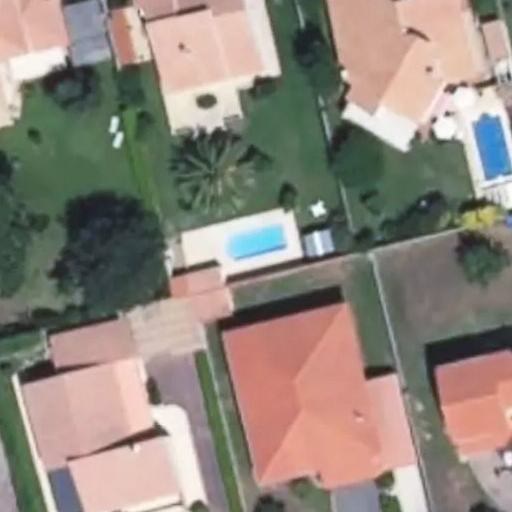pool: (220, 236, 288, 249)
